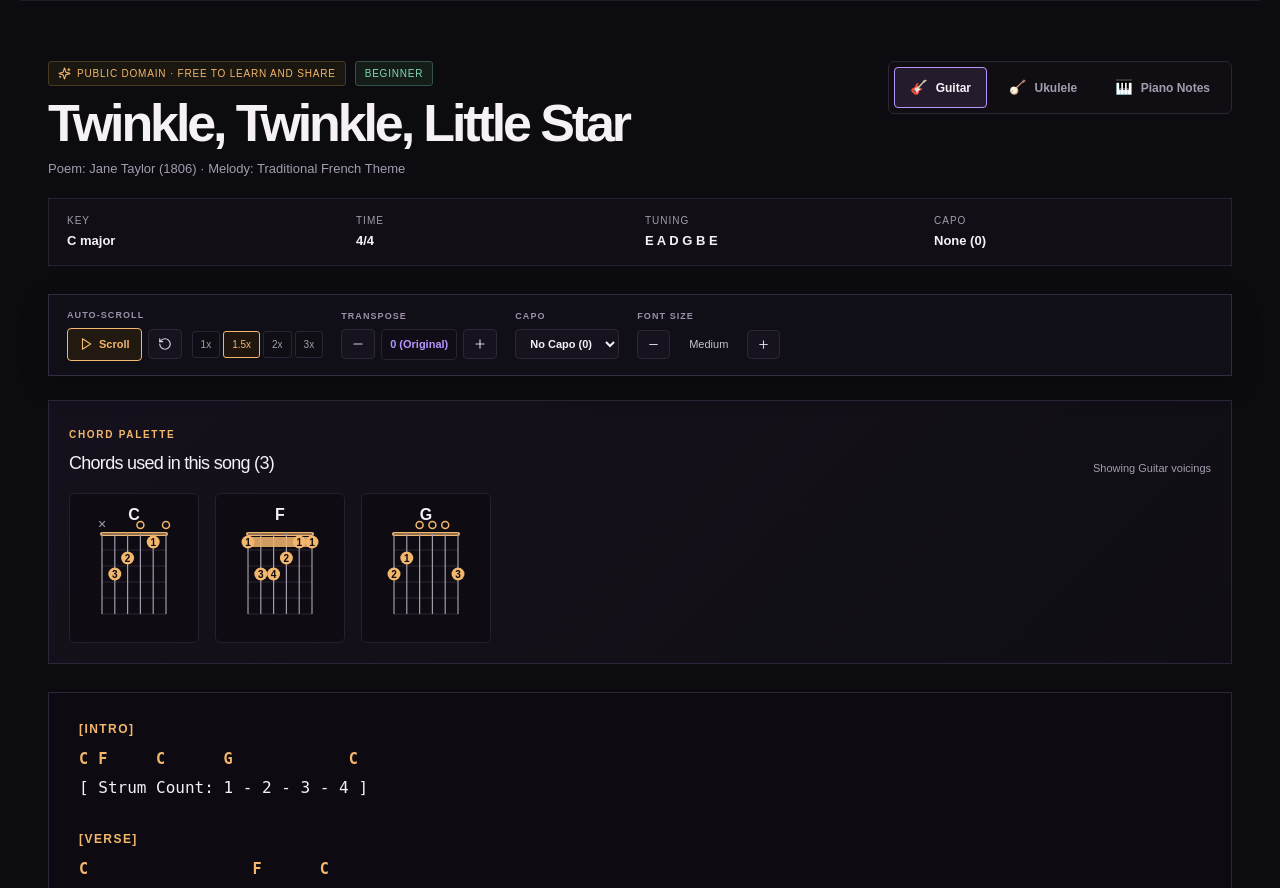
Test: SongSheetReader › handles capo changes and calculates sounding key correctly
This screenshot has width=1280, height=888.
Select "Fret 2" in the dropdown named "Select capo fret" at (567, 344), box [515,329,619,359]
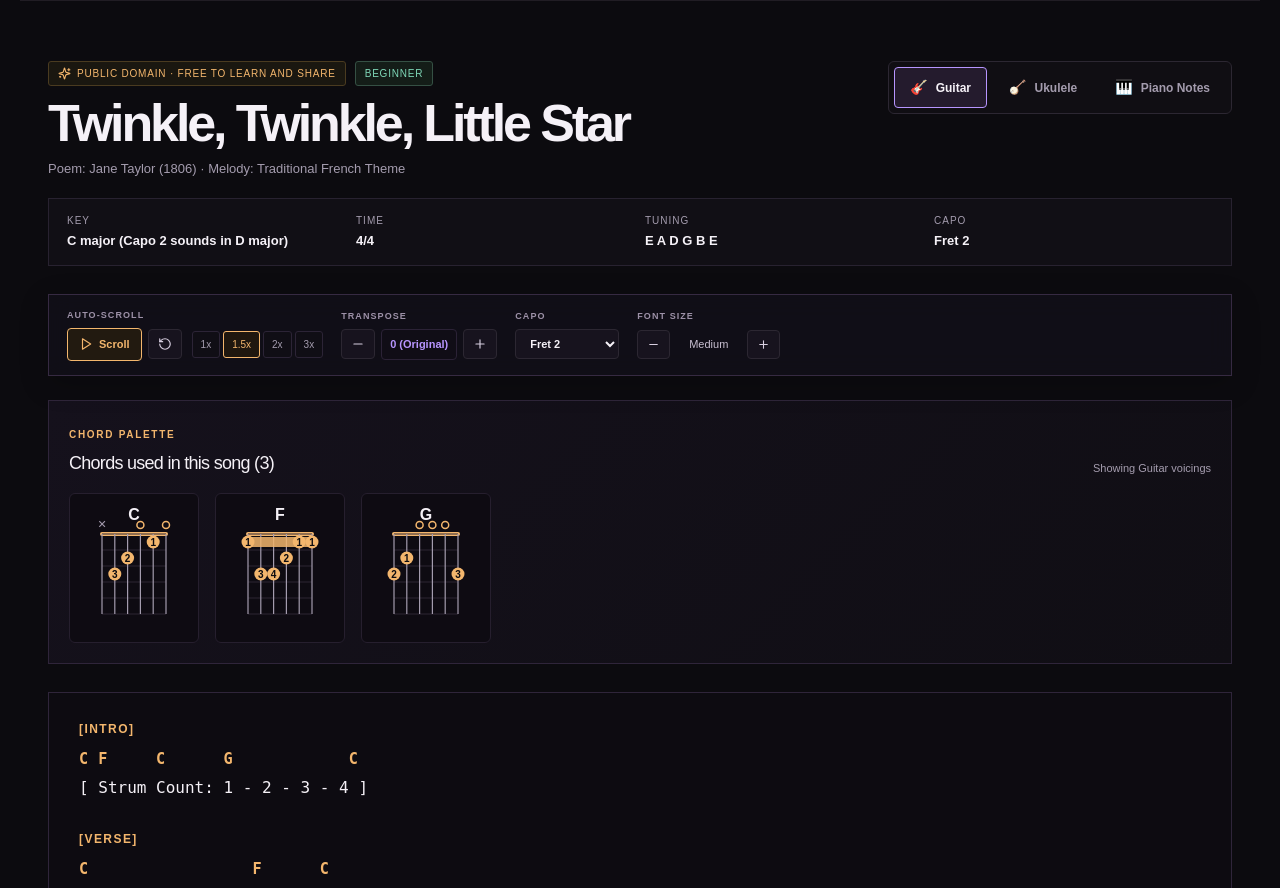
Result: the text "Fret 2" is shown at [934,233,969,248]
Result: the text "C major (Capo 2 sounds in D major)" is shown at [67,233,288,248]
